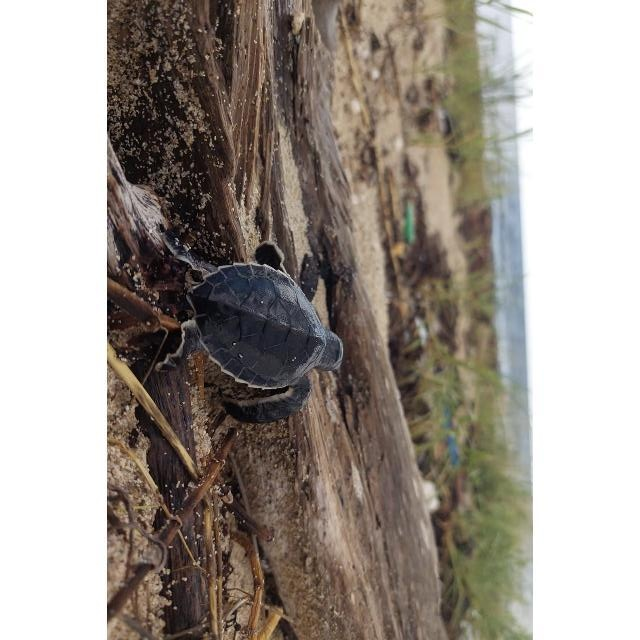turtle: (154, 228, 342, 424)
